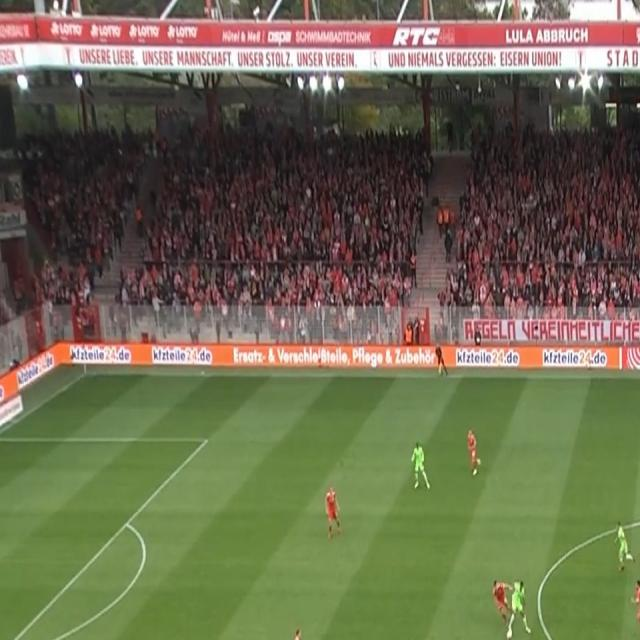ball: (505, 628, 513, 640)
